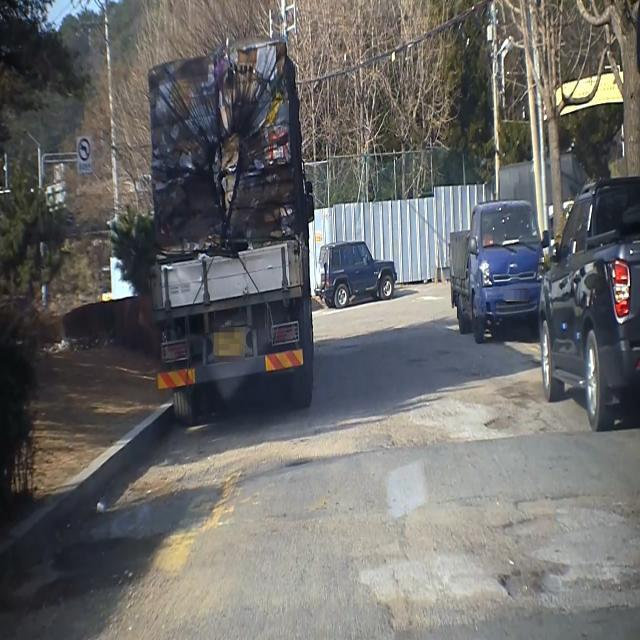pothole: (493, 557, 574, 615), (471, 395, 552, 443)
